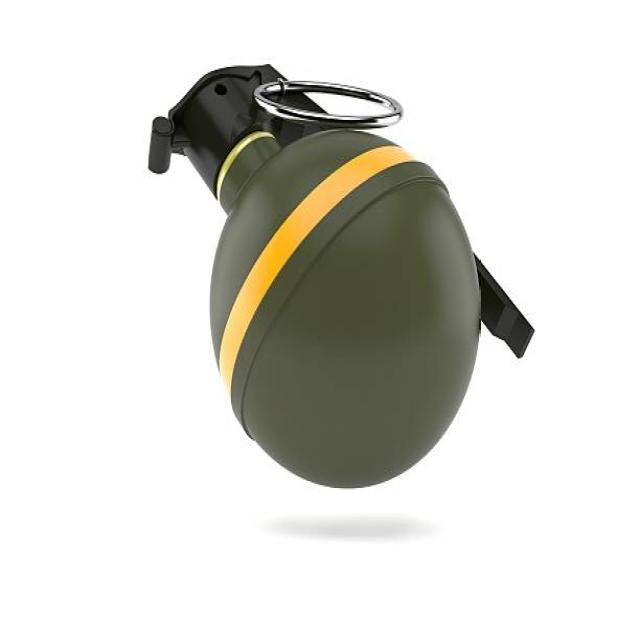grenade: (140, 51, 541, 497)
